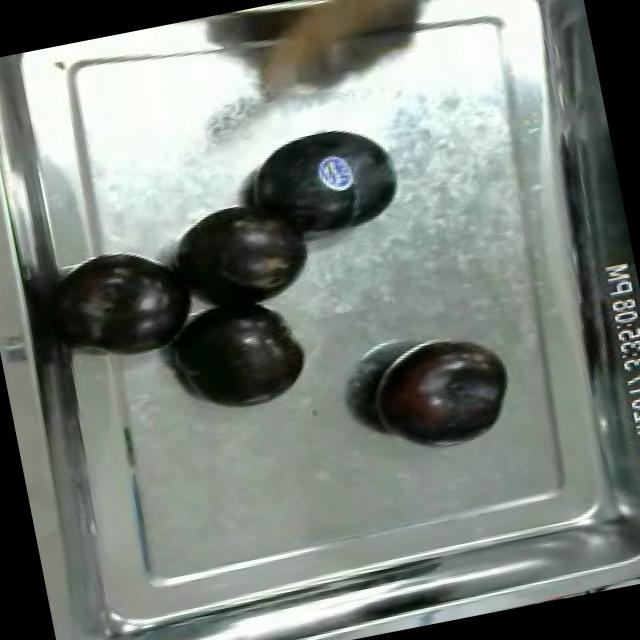Fruit: (231, 102, 418, 257), (364, 325, 524, 458), (160, 184, 325, 311), (166, 290, 320, 424), (59, 238, 205, 365), (0, 56, 17, 149)
